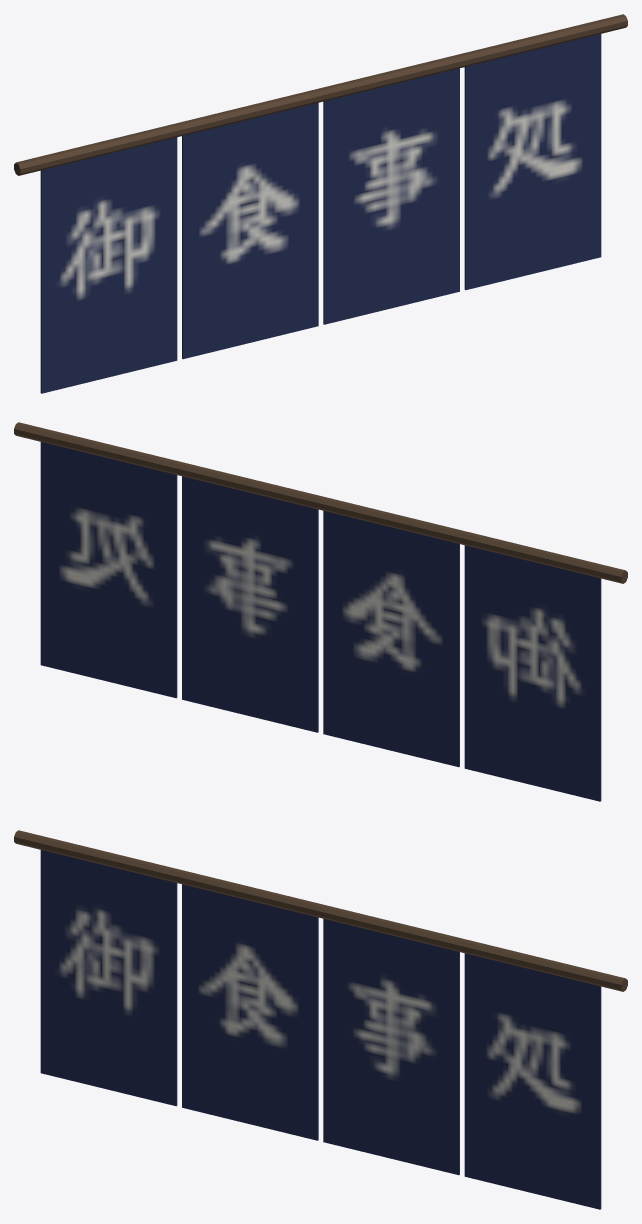
Rendered from SM_Opening_ShopDinerS30_R_Noren_01.fbx.
The picture shows the model from 3 angles, top to bottom: view 1: azimuth 30°, elevation 25°; view 2: azimuth 150°, elevation 25°; view 3: azimuth 330°, elevation 25°; orthographic projection.
Parts seen in each view (by area): view 1: SM_Opening_ShopDinerS30_R_Noren_01; view 2: SM_Opening_ShopDinerS30_R_Noren_01; view 3: SM_Opening_ShopDinerS30_R_Noren_01.
Boxes of the visible parts, x1,y1,x2,y2 form: SM_Opening_ShopDinerS30_R_Noren_01: (14, 14, 627, 393); SM_Opening_ShopDinerS30_R_Noren_01: (14, 422, 627, 801); SM_Opening_ShopDinerS30_R_Noren_01: (14, 830, 627, 1209).
Size of the model in its own units: 1.52 by 0.5639 by 0.0277.
Materials: 1 (1 with a texture image).
